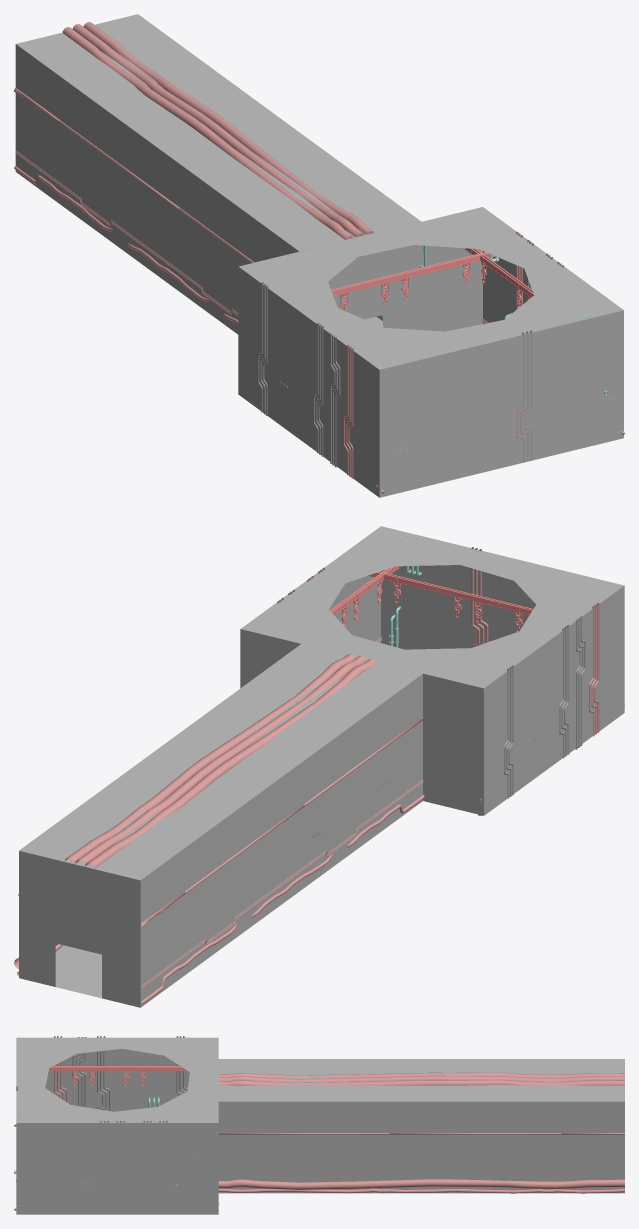
File: CombinedBlenderExport.fbx
The picture shows the model from 3 angles, top to bottom: view 1: azimuth 30°, elevation 25°; view 2: azimuth 150°, elevation 25°; view 3: azimuth 270°, elevation 25°; orthographic projection. The views are drawn at different scales.
Parts seen in each view (by area): view 1: BargeStart_Wall, BargeCorr_Wall.001, BargeCorr_Ceiling, BargeStart_Ceiling, Pipe_Big_R3, Pipe_Big_R1, Pipe_Big_R2, Generator_Beam_1, Pipe_Vertical_Thin2, Pipe_Vertical_Thin1, Pipe_Vertical_Thin_5, Pipe_Big_L_Up (+4 smaller); view 2: BargeStart_Wall, BargeCorr_Wall.001, BargeCorr_Ceiling, BargeStart_Ceiling, BargeCorr_Wall, Pipe_Big_R3, Pipe_Big_R1, Pipe_Big_R2, BargeCorr_Floor, Generator_Beam_1, Pipe_Big_L_Up, Pipe_Horizontal_Small_L1 (+6 smaller); view 3: BargeCorr_Wall.001, BargeStart_Wall, BargeCorr_Ceiling, BargeStart_Ceiling, Pipe_Big_R, Pipe_Big_R2, Pipe_Big_R1, Pipe_Big_R3, Pipe_Big_L1, Generator_Beam_2, Pipe_L, Pipe_Vertical_Thin1 (+1 smaller).
Part boxes in pixels (left/top/right/bottom): BargeStart_Wall: left=238, top=245, right=623, bottom=497; BargeCorr_Wall.001: left=15, top=44, right=382, bottom=334; BargeCorr_Ceiling: left=16, top=14, right=421, bottom=251; BargeStart_Ceiling: left=238, top=207, right=623, bottom=369; Pipe_Big_R3: left=62, top=27, right=353, bottom=239; Pipe_Big_R1: left=72, top=24, right=364, bottom=237; Pipe_Big_R2: left=83, top=22, right=374, bottom=234; Generator_Beam_1: left=331, top=252, right=495, bottom=311; Pipe_Vertical_Thin2: left=330, top=333, right=340, bottom=467; Pipe_Vertical_Thin1: left=313, top=323, right=323, bottom=456; Pipe_Vertical_Thin_5: left=343, top=345, right=353, bottom=478; Pipe_Big_L_Up: left=14, top=166, right=238, bottom=323; BargeStart_Wall: left=240, top=565, right=624, bottom=815; BargeCorr_Wall.001: left=55, top=674, right=422, bottom=1007; BargeCorr_Ceiling: left=19, top=644, right=422, bottom=880; BargeStart_Ceiling: left=241, top=526, right=624, bottom=688; BargeCorr_Wall: left=19, top=851, right=140, bottom=1007; Pipe_Big_R3: left=85, top=658, right=376, bottom=868; Pipe_Big_R1: left=75, top=655, right=365, bottom=865; Pipe_Big_R2: left=64, top=653, right=355, bottom=863; BargeCorr_Floor: left=55, top=945, right=101, bottom=998; Generator_Beam_1: left=368, top=571, right=533, bottom=632; Pipe_Big_L_Up: left=141, top=795, right=424, bottom=1005; Pipe_Horizontal_Small_L1: left=141, top=780, right=423, bottom=988; BargeCorr_Wall.001: left=218, top=1101, right=624, bottom=1193; BargeStart_Wall: left=16, top=1049, right=218, bottom=1214; BargeCorr_Ceiling: left=218, top=1059, right=624, bottom=1101; BargeStart_Ceiling: left=16, top=1037, right=218, bottom=1122; Pipe_Big_R: left=218, top=1179, right=624, bottom=1189; Pipe_Big_R2: left=219, top=1079, right=624, bottom=1085; Pipe_Big_R1: left=219, top=1075, right=624, bottom=1081; Pipe_Big_R3: left=219, top=1072, right=624, bottom=1077; Pipe_Big_L1: left=218, top=1188, right=624, bottom=1193; Generator_Beam_2: left=48, top=1066, right=187, bottom=1086; Pipe_L: left=219, top=1133, right=624, bottom=1134; Pipe_Vertical_Thin1: left=97, top=1036, right=110, bottom=1110.
Bounding box in the file's own units: 2023 × 1057 × 6043.
